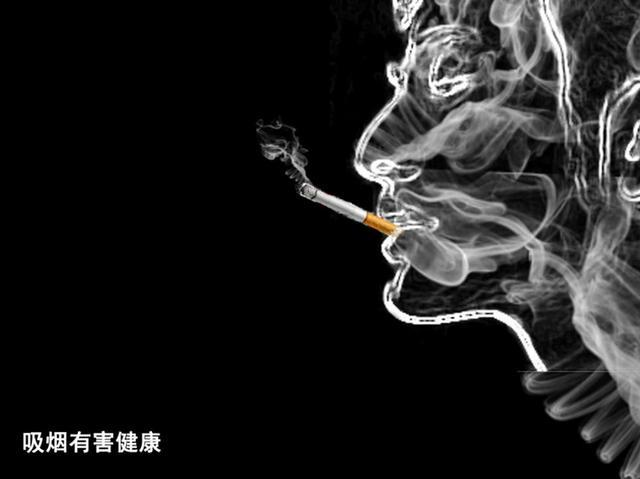Cigarette: (292, 178, 400, 236)
